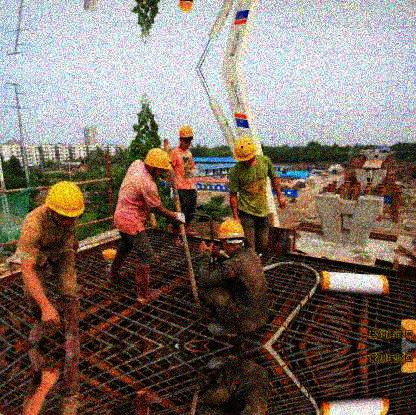helmet: (44, 181, 85, 233), (214, 219, 248, 254), (144, 147, 172, 183), (233, 137, 260, 171), (176, 124, 195, 153)
